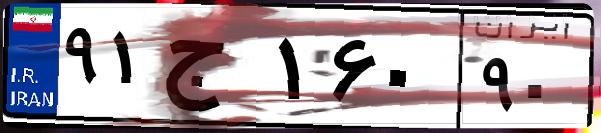0: (385, 28, 445, 110), (525, 38, 570, 115)
1: (270, 28, 330, 110), (110, 28, 158, 98)
6: (330, 28, 385, 110)
9: (57, 26, 110, 100), (475, 38, 525, 113)
ج: (158, 20, 270, 120)
